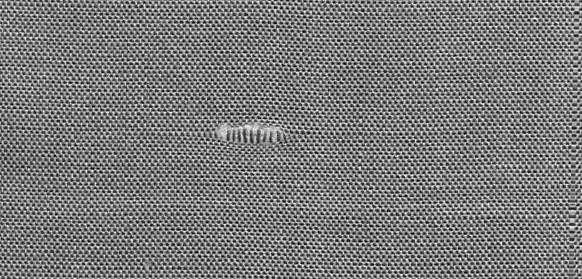slub: (209, 115, 298, 154)
